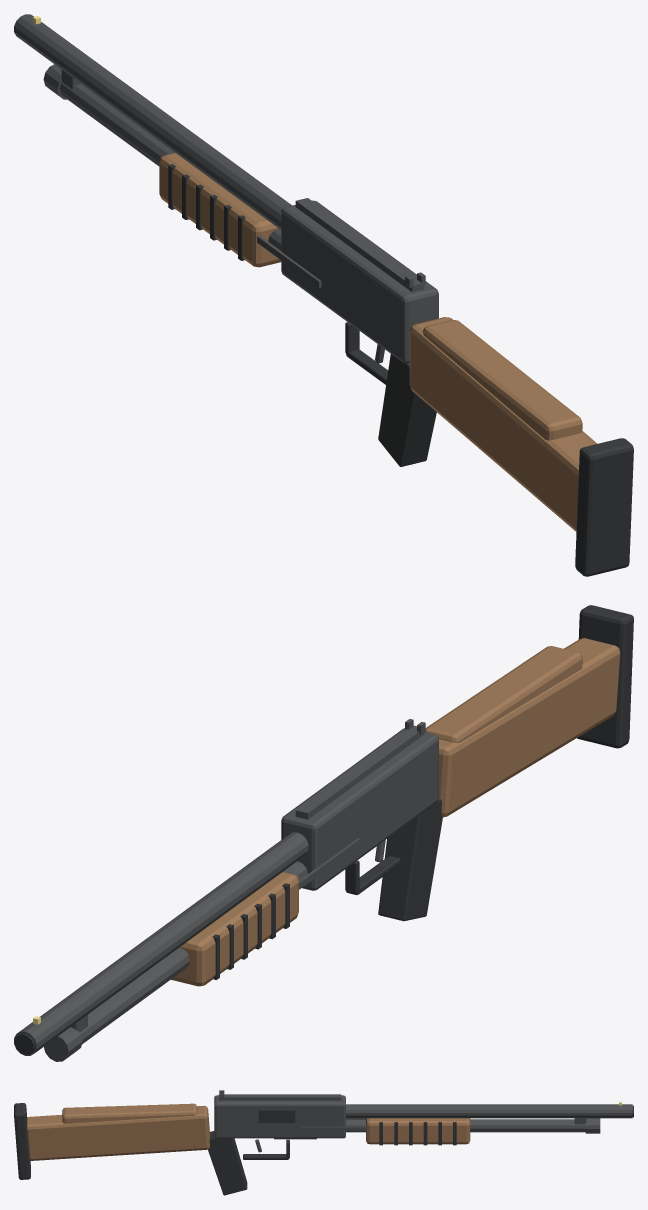
Rendered from shotgun.glb.
3 views of the same model, one above another, from view 1: azimuth 30°, elevation 25°; view 2: azimuth 150°, elevation 25°; view 3: azimuth 270°, elevation 25° (orthographic). The views are drawn at different scales.
Visible parts, largest first — view 1: Stock, Receiver, Barrel, ButtPad, StockComb, Forend, GripBody, MagTube, SightRib; view 2: Stock, Receiver, Barrel, StockComb, Forend, GripBody, ButtPad, MagTube, SightRib, TubeCap, GuardBottom; view 3: Stock, Receiver, Barrel, Forend, StockComb, MagTube, GripBody, ButtPad, SightRib, EjectPort, ActionBarR, GuardBottom (+1 smaller).
Part boxes in pixels (<box>): Stock: <box>409,317,597,531</box>; Receiver: <box>281,200,438,363</box>; Barrel: <box>14,14,291,229</box>; ButtPad: <box>575,438,633,576</box>; StockComb: <box>423,320,582,440</box>; Forend: <box>159,152,281,267</box>; GripBody: <box>378,354,436,466</box>; MagTube: <box>59,82,281,250</box>; SightRib: <box>295,198,424,292</box>; Stock: <box>438,638,620,817</box>; Receiver: <box>281,728,438,890</box>; Barrel: <box>14,832,308,1055</box>; StockComb: <box>425,646,582,742</box>; Forend: <box>171,872,298,986</box>; GripBody: <box>378,798,442,921</box>; ButtPad: <box>577,605,633,748</box>; MagTube: <box>80,861,307,1044</box>; SightRib: <box>295,725,424,819</box>; TubeCap: <box>44,1027,82,1061</box>; GuardBottom: <box>346,856,400,894</box>; Stock: <box>27,1105,209,1160</box>; Receiver: <box>214,1095,345,1138</box>; Barrel: <box>346,1104,632,1118</box>; Forend: <box>366,1118,470,1144</box>; StockComb: <box>62,1103,197,1123</box>; MagTube: <box>346,1119,585,1132</box>; GripBody: <box>208,1131,247,1195</box>; ButtPad: <box>14,1103,30,1179</box>; SightRib: <box>218,1094,341,1100</box>; EjectPort: <box>258,1110,295,1122</box>; ActionBarR: <box>301,1126,366,1130</box>; GuardBottom: <box>243,1154,288,1159</box>.
Size of the model in its own units: 0.048 by 0.1796 by 1.01.
